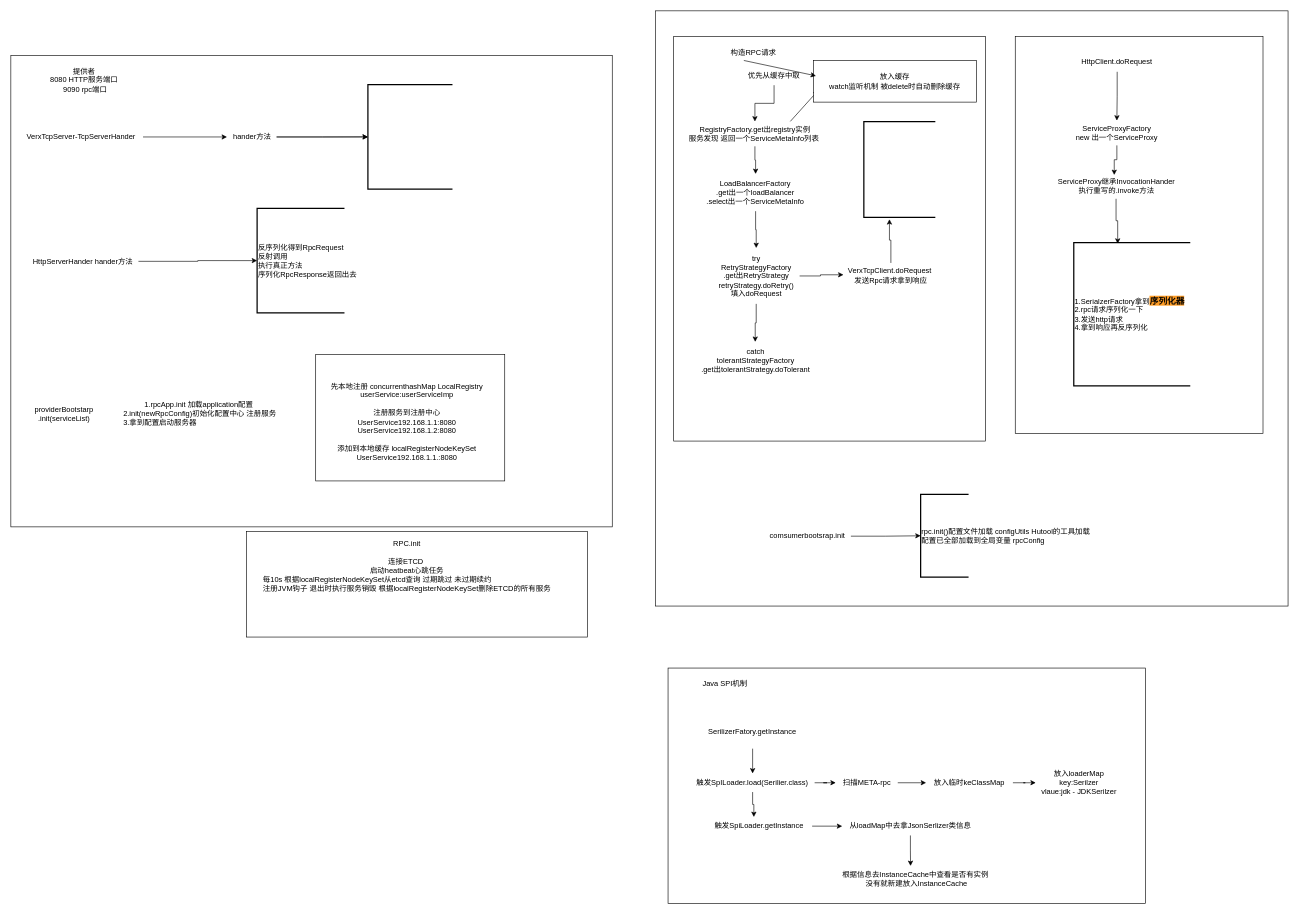
Image size: 1299x915. Some labels were removed from this diagram. The centre of each missing label's shape, as x and y in pixels:
1 解码 从本地注册器中拿到服务实现类 2 反射调用 method.invoke方法 3构造RpcRsponse 4编码发出: the point at 410,137
1.把RPC请求 构造ProtocolMessage 2编码发出 3.等响应 4.返回数据即可: the point at 899,169
